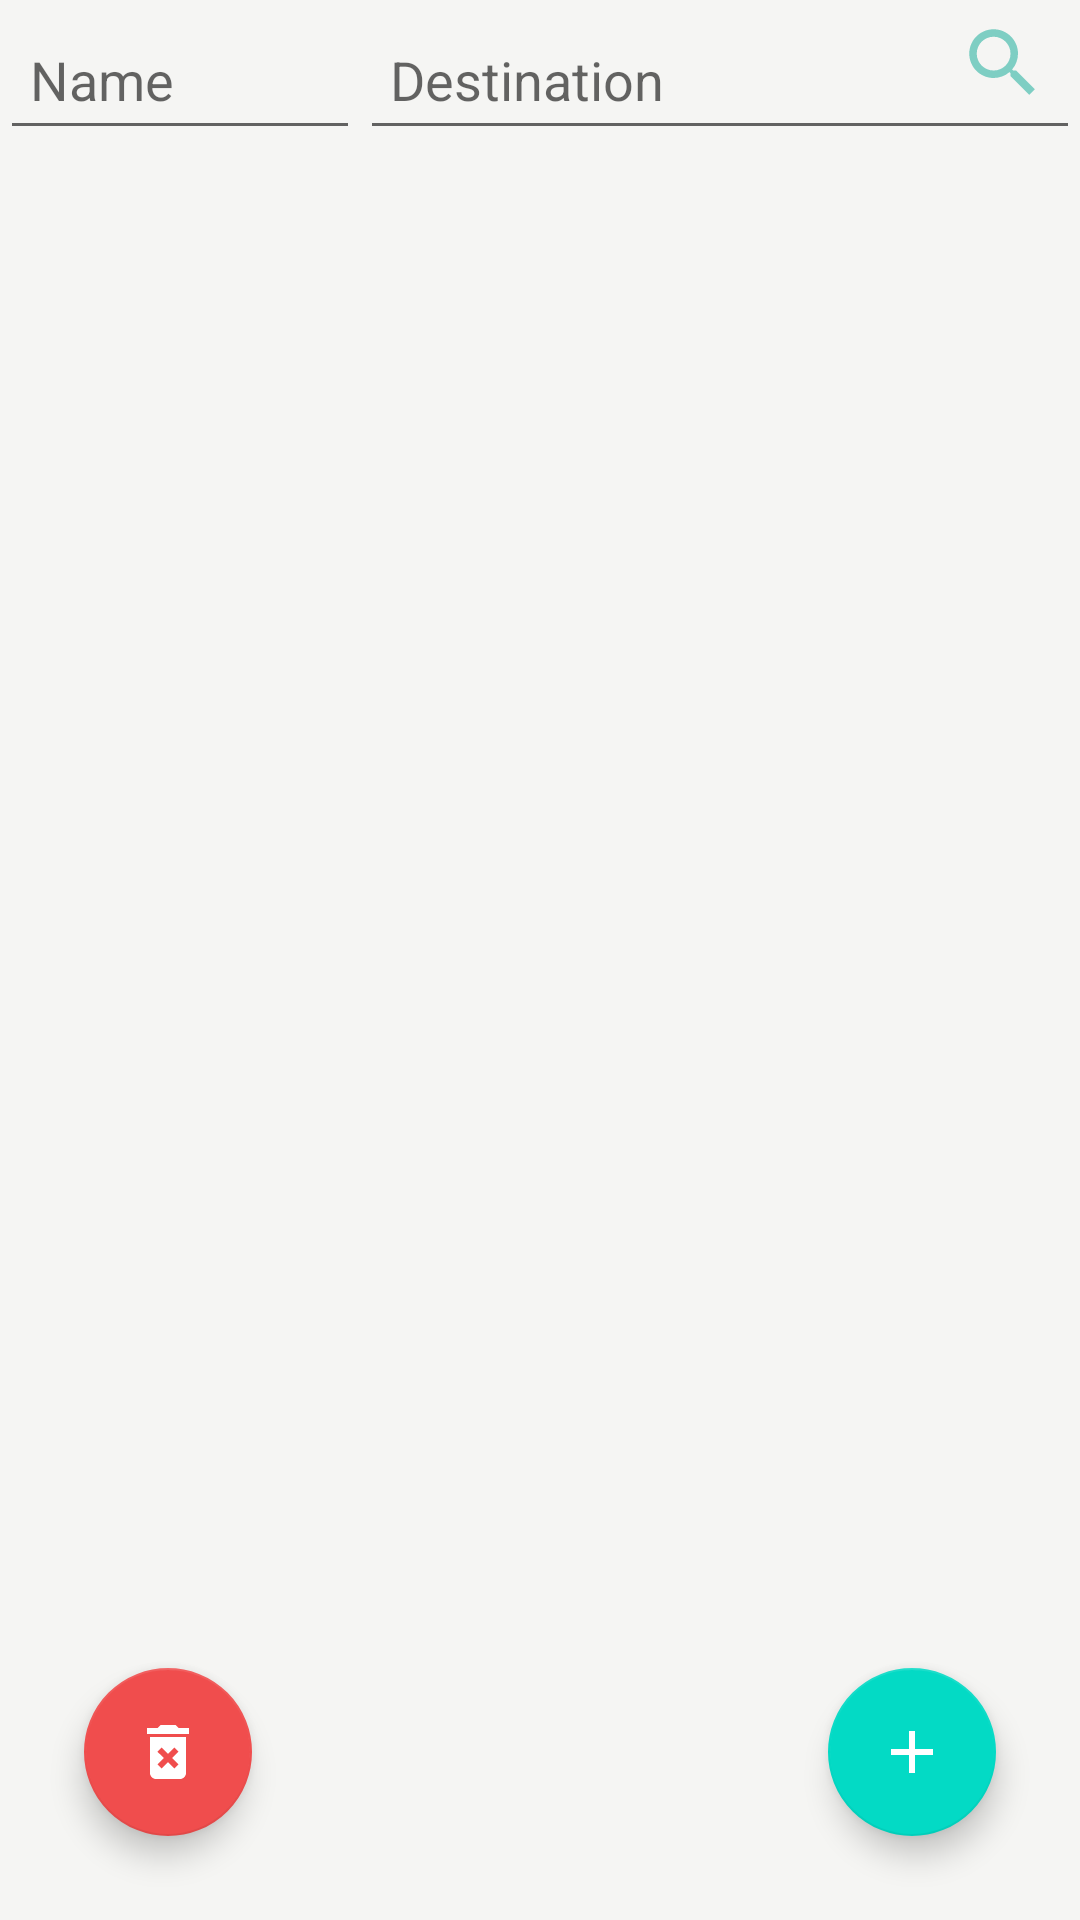

Icons on this 1080 × 1920 Android screen, each with the point to tap as (x=x, y=y):
add: (x=912, y=1752)
delete forever: (x=168, y=1752)
search: (x=1002, y=62)
